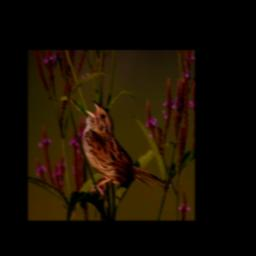Sparrow: (81, 99, 169, 203)
